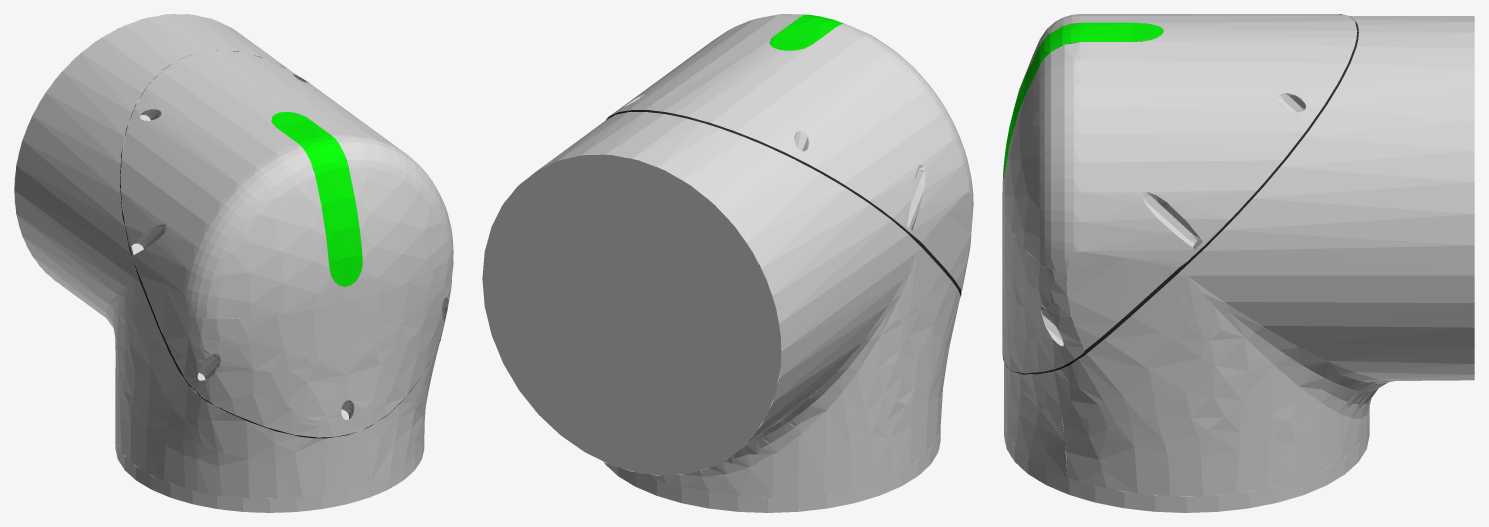
The picture shows the model from 3 angles, left to right: view 1: azimuth 30°, elevation 25°; view 2: azimuth 150°, elevation 25°; view 3: azimuth 270°, elevation 25°; orthographic projection. The views are drawn at different scales.
Visible parts, largest first — view 1: node; view 2: node; view 3: node.
Part boxes in pixels (x1,y1,x2,y2): node: (14, 14, 453, 512); node: (482, 14, 973, 512); node: (1002, 14, 1474, 512).
Size of the model in its own units: 240 by 293 by 310.
